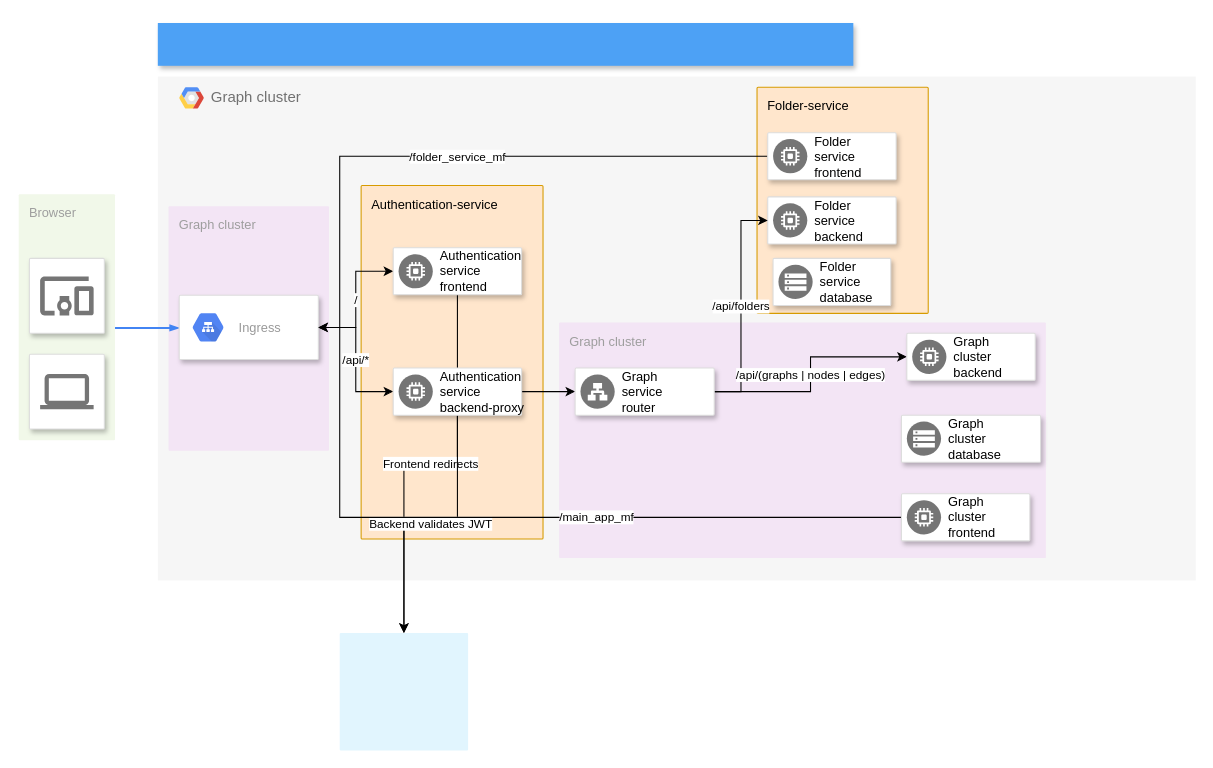
Some shapes in this 1213 by 768 pixel diagram are drawn without their labels. Here are the shapes that lost their labels. From the top down, the centre of each, then its label:
point (506, 45): Architecture: Backup and Archive > API Hosting
point (403, 691): Okta
